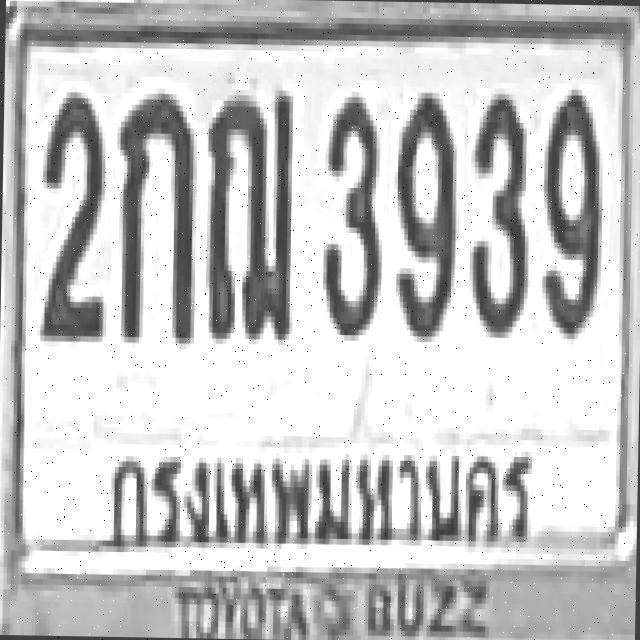10GorGai: (114, 87, 194, 337)
2: (36, 88, 102, 333)
21ChorChoe: (201, 83, 293, 339)
3: (318, 91, 381, 335), (466, 88, 529, 332)
9: (391, 86, 454, 336), (538, 84, 600, 334)
Bangkok: (94, 416, 546, 564)
